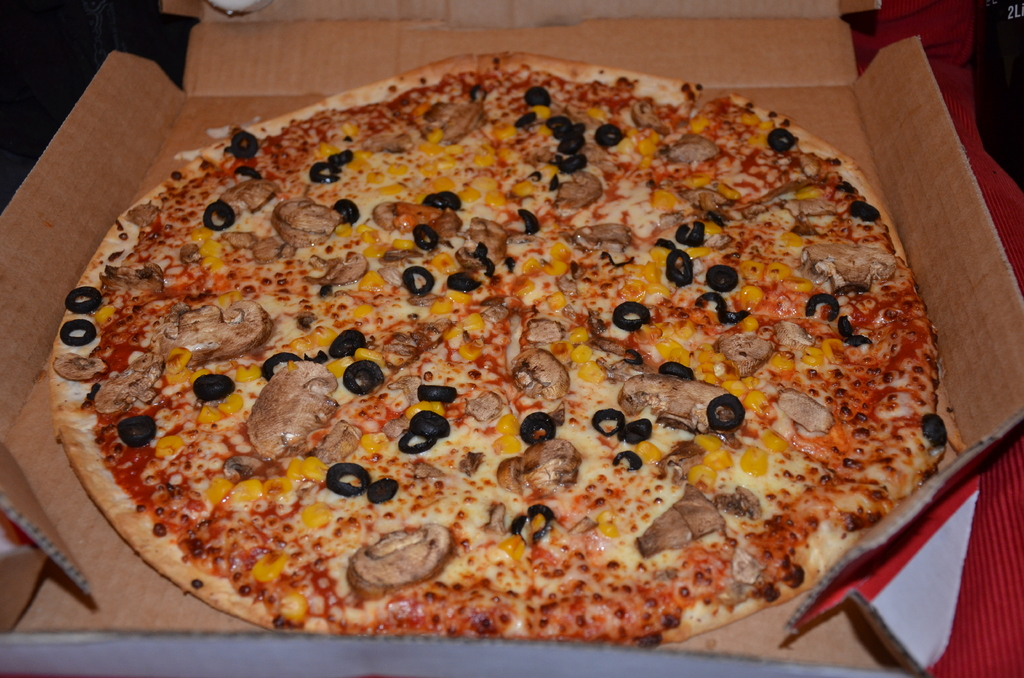Pizza: (51, 51, 949, 646)
